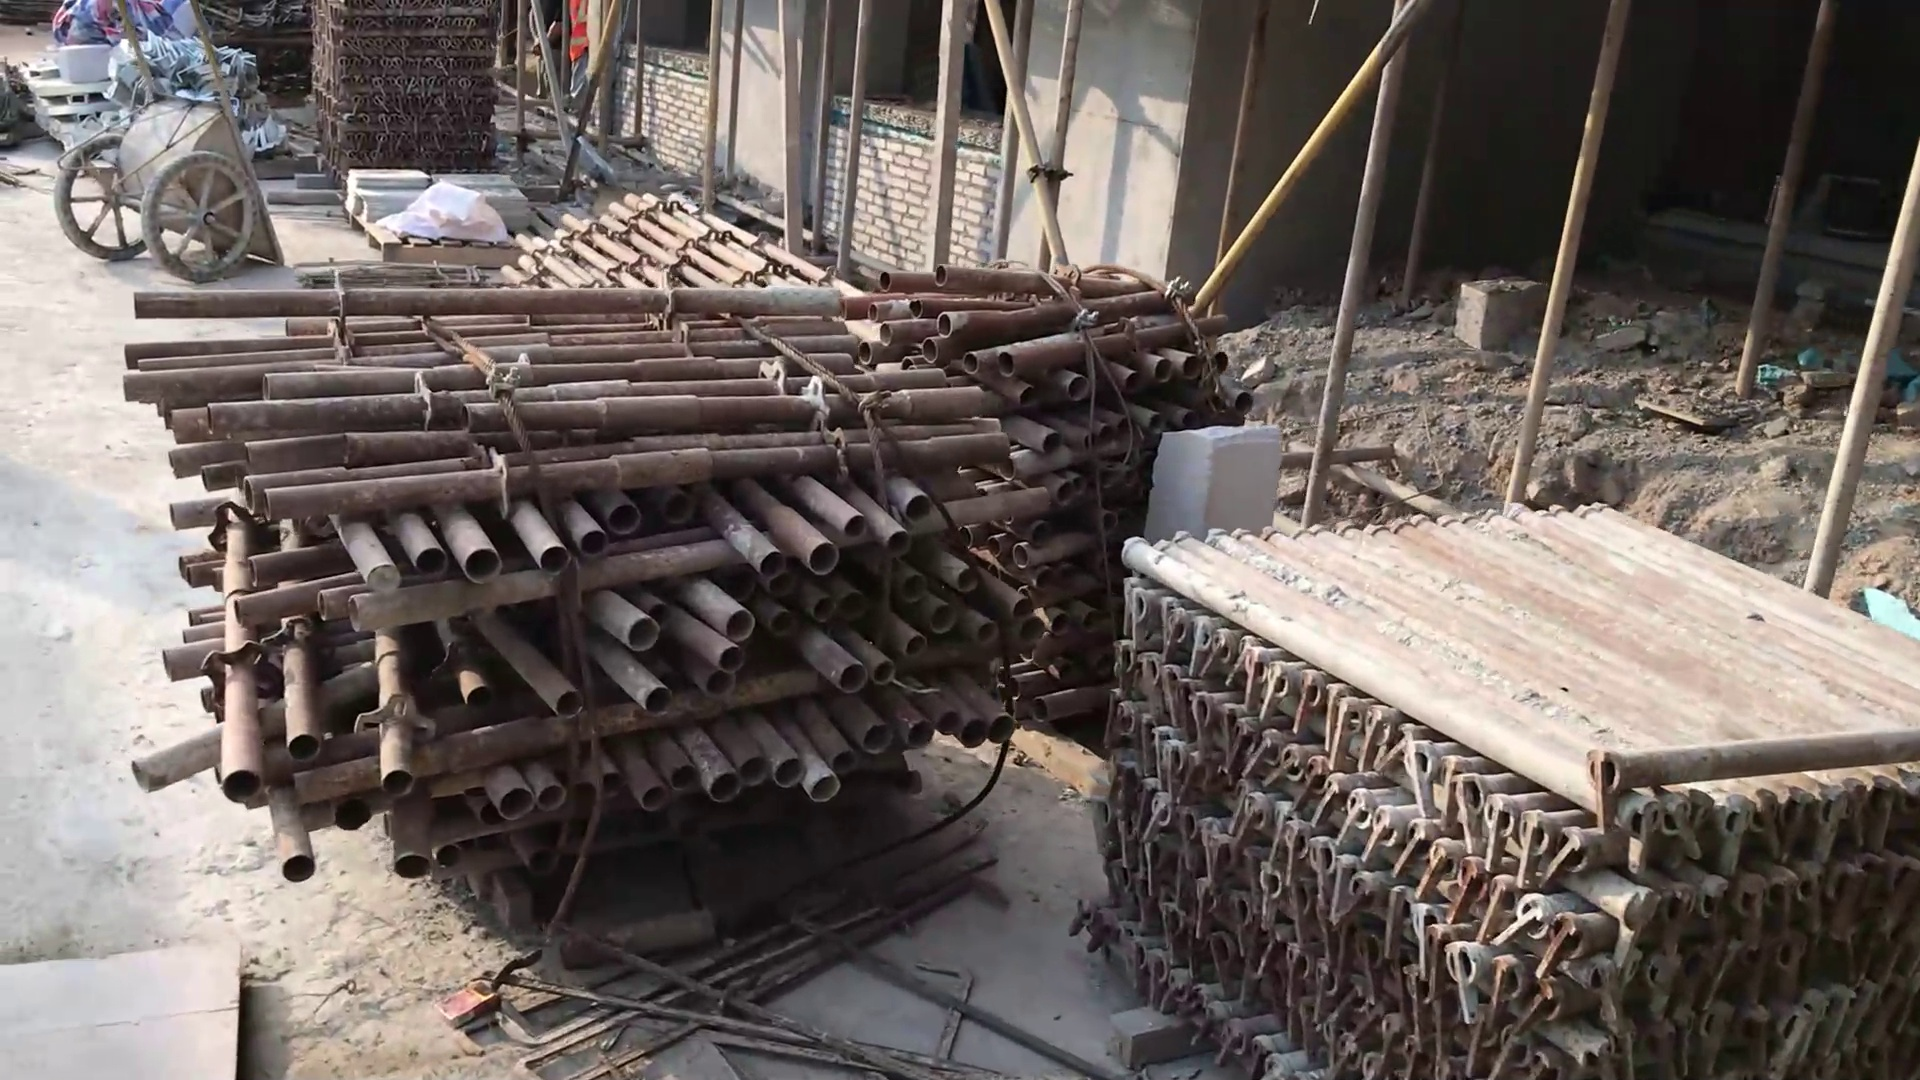handcart: (50, 1, 289, 284)
scaffold: (157, 262, 1251, 861), (1083, 497, 1917, 1079), (483, 194, 851, 295), (311, 1, 502, 175)
vest: (564, 1, 595, 65)
